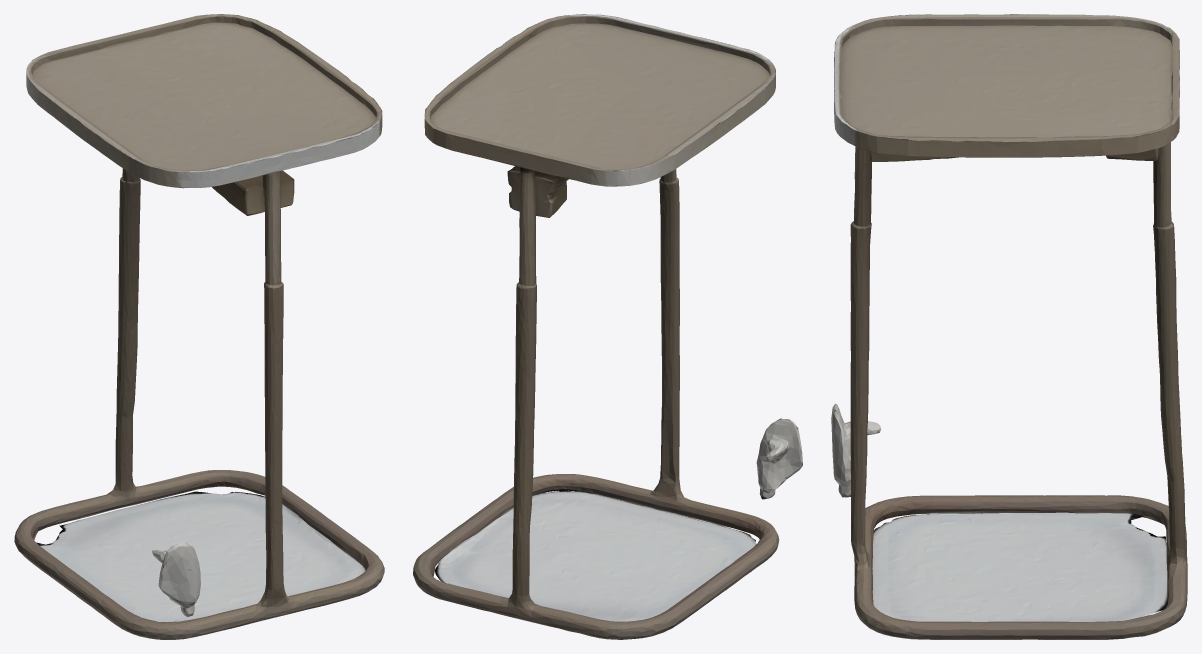
3 renders of one model, left to right at view 1: azimuth 30°, elevation 25°; view 2: azimuth 150°, elevation 25°; view 3: azimuth 270°, elevation 25°, orthographic. The views are drawn at different scales.
Visible parts, largest first — view 1: geometry_0; view 2: geometry_0; view 3: geometry_0.
Part boxes in pixels (bbox=[...]): geometry_0: bbox=[14, 14, 384, 639]; geometry_0: bbox=[413, 14, 802, 639]; geometry_0: bbox=[831, 14, 1187, 639].
Size of the model in its own units: 0.5784 by 1 by 0.6474.
1 material, 1 textured.
